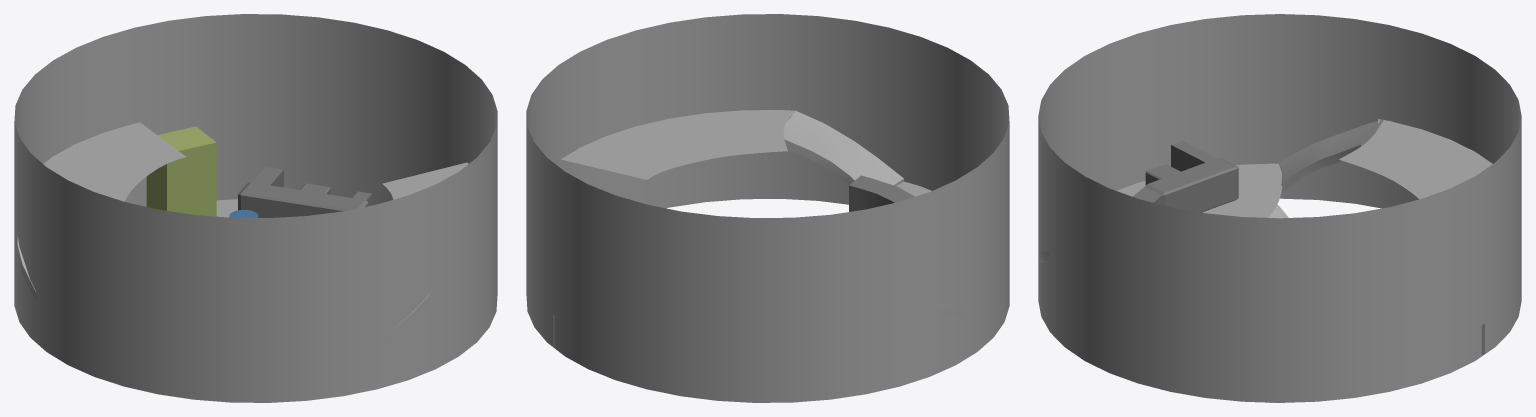
File: Proto - Escritório.fbx
3 renders of one model, left to right at view 1: azimuth 30°, elevation 25°; view 2: azimuth 150°, elevation 25°; view 3: azimuth 270°, elevation 25°, orthographic.
Visible parts, largest first — view 1: pCylinder5, polySurface43, polySurface38, polySurface52, polySurface44, pCube2; view 2: pCylinder5, polySurface44, pCube2, polySurface54, pCube1; view 3: pCylinder5, polySurface43, polySurface54, polySurface45, pCube1.
Part boxes in pixels (x1,y1,x2,y2): pCylinder5: [14, 14, 497, 402]; polySurface43: [43, 122, 185, 201]; polySurface38: [146, 126, 216, 216]; polySurface52: [238, 167, 372, 217]; polySurface44: [382, 162, 468, 199]; pCube2: [387, 292, 431, 342]; pCylinder5: [526, 14, 1009, 402]; polySurface44: [561, 110, 796, 179]; pCube2: [783, 111, 903, 185]; polySurface54: [849, 175, 914, 211]; pCube1: [918, 298, 965, 318]; pCylinder5: [1038, 14, 1521, 402]; polySurface43: [1339, 119, 1492, 199]; polySurface54: [1132, 141, 1238, 212]; polySurface45: [1116, 163, 1282, 217]; pCube1: [1279, 119, 1383, 193].
Size of the model in its own units: 11.19 by 5.04 by 11.19.
